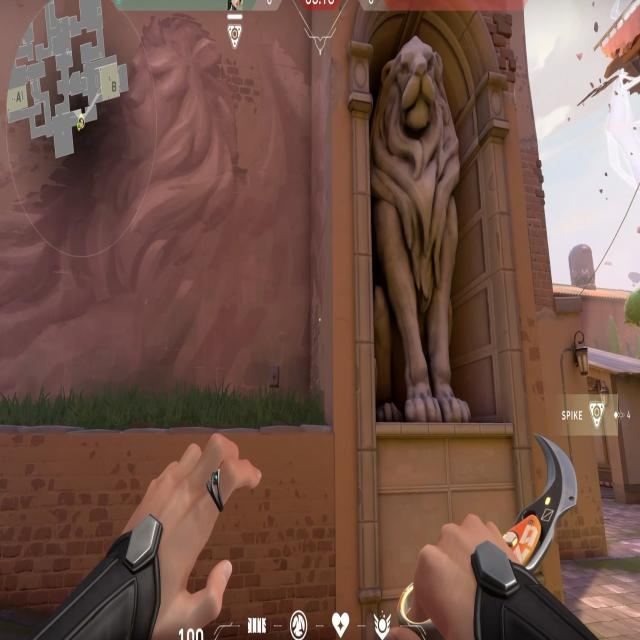Lion_Corner: (354, 7, 508, 445)
